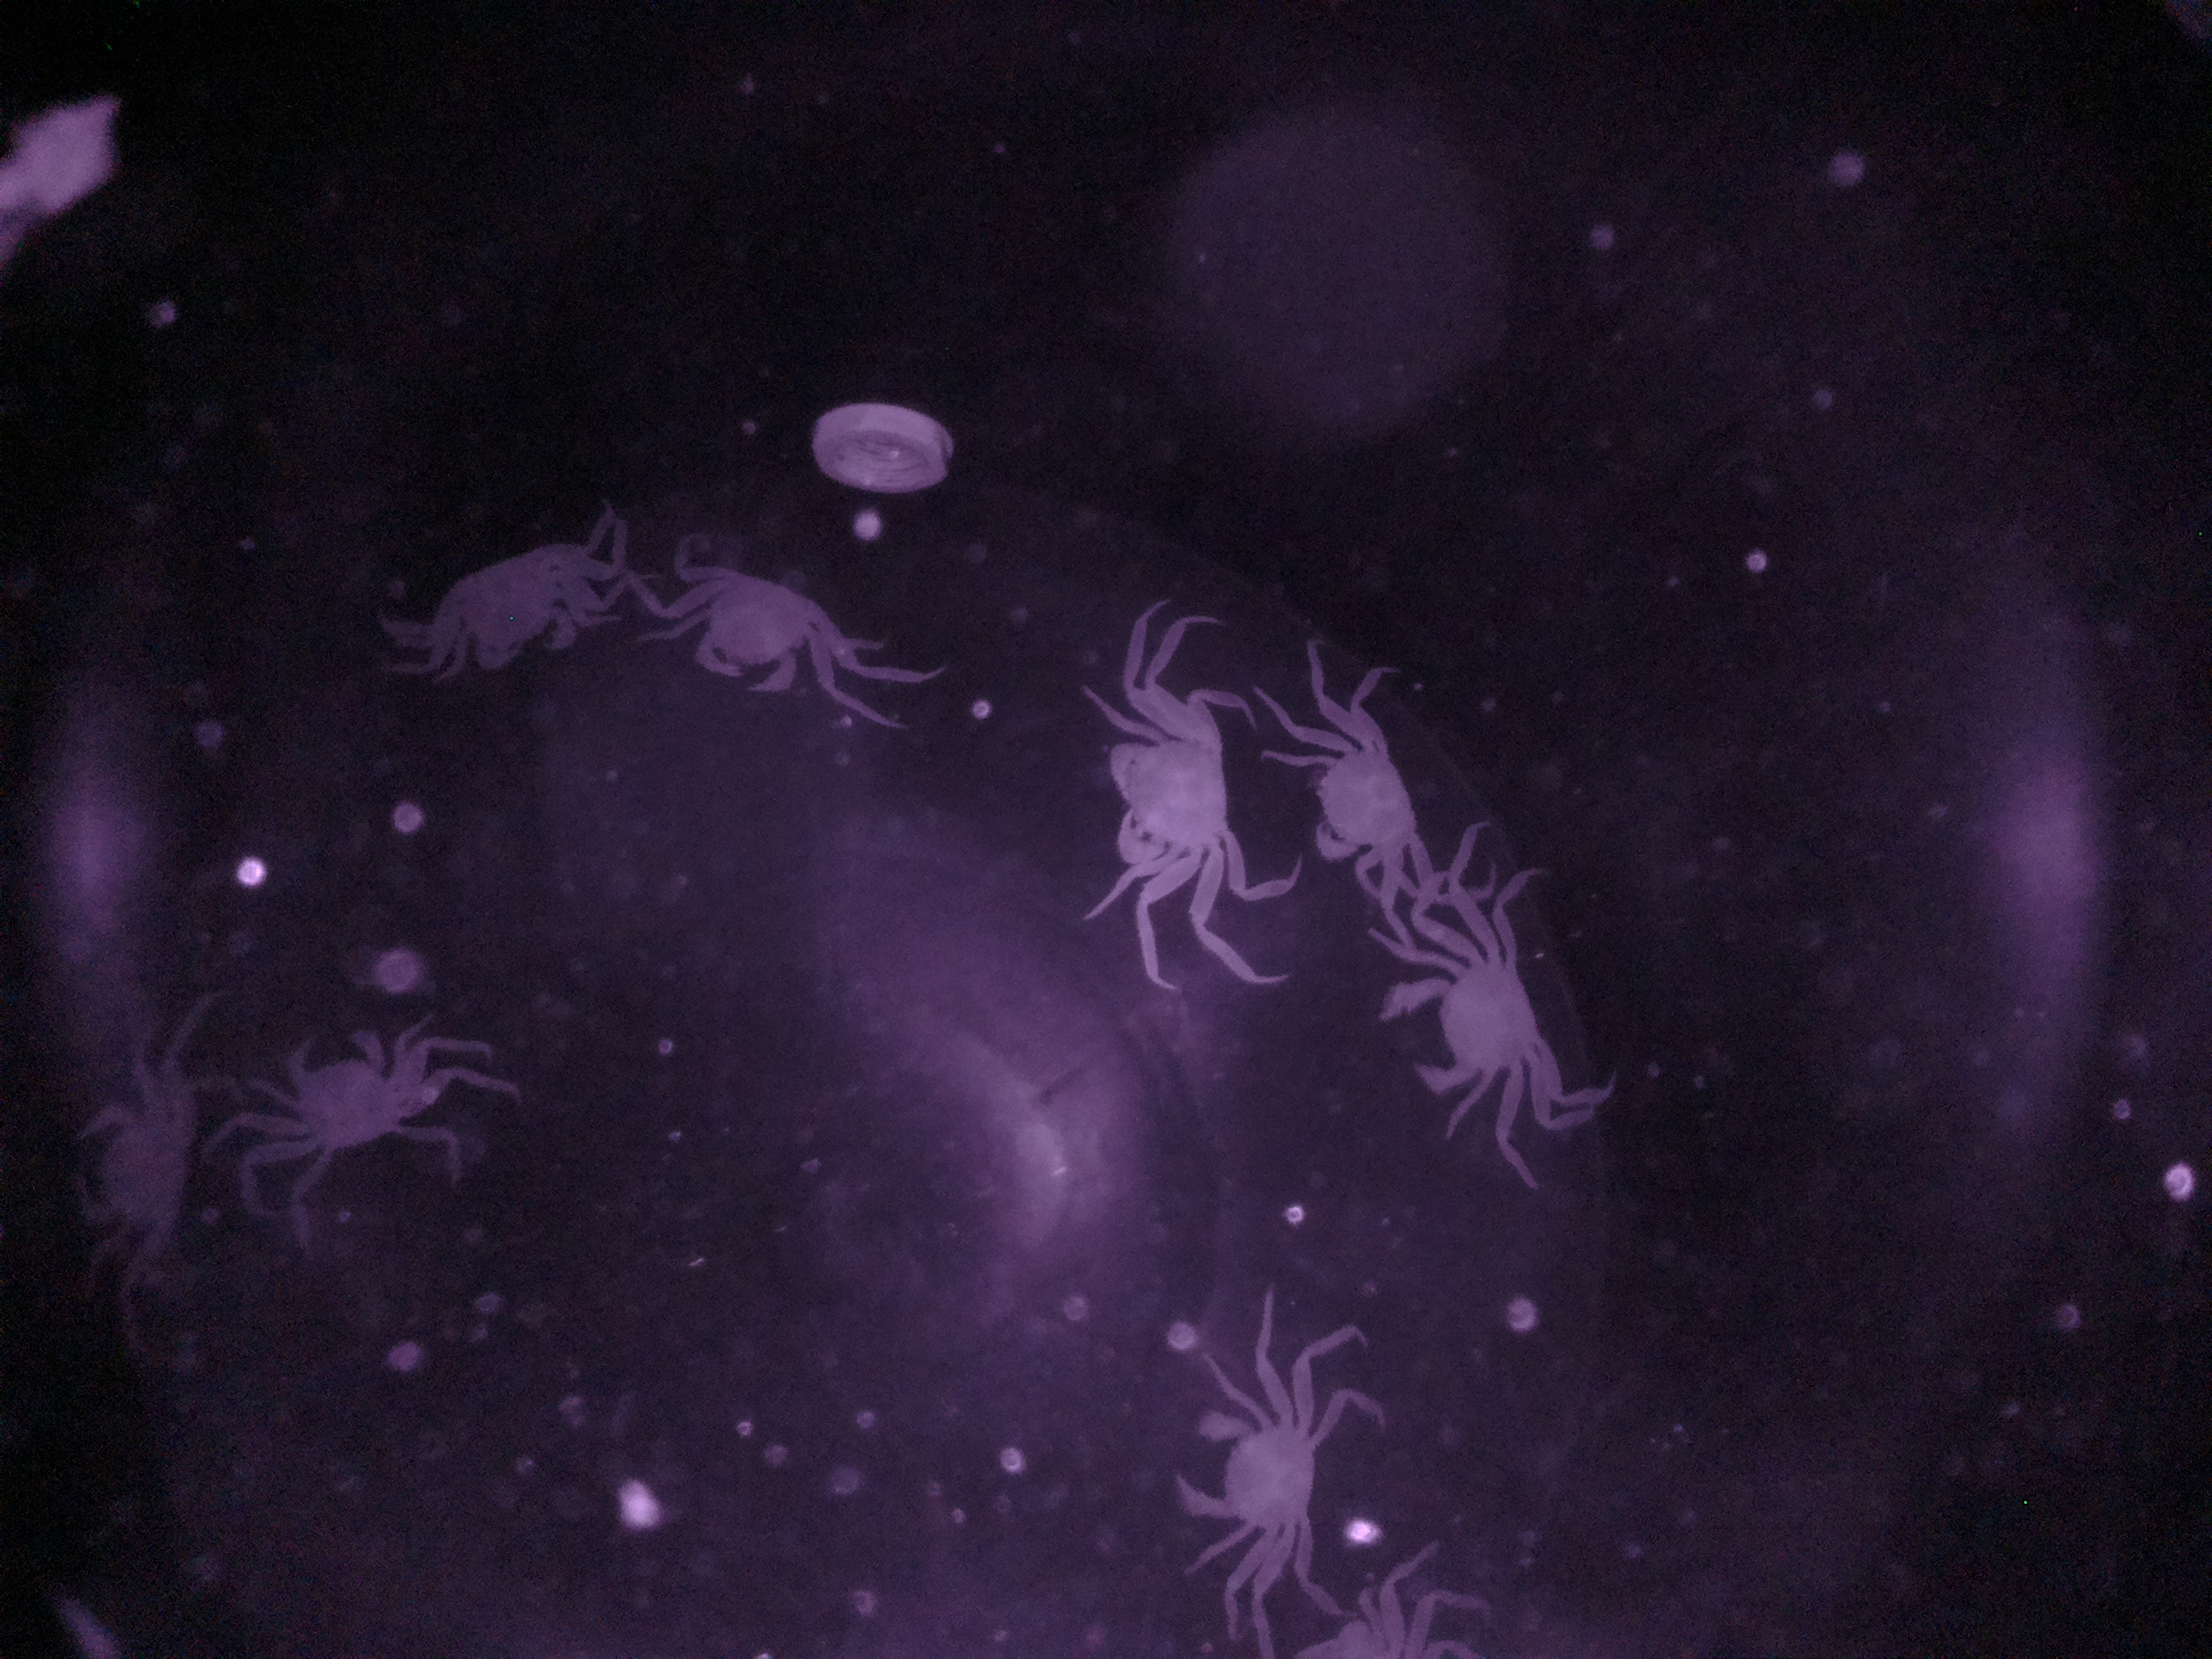Crab: (1362, 908, 1604, 1169), (1153, 1323, 1345, 1596), (395, 507, 637, 716), (240, 990, 484, 1183), (1082, 648, 1233, 932), (646, 538, 887, 711), (1278, 678, 1451, 908)
